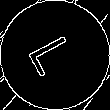L_NE: (26, 29, 84, 81)
